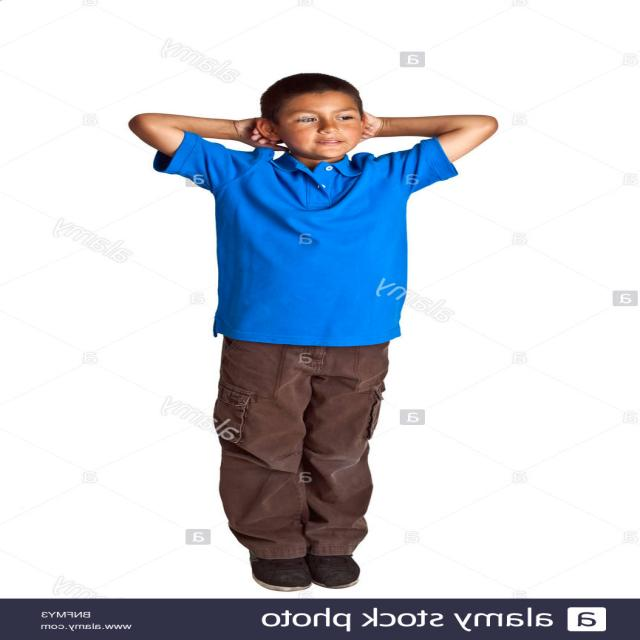child: (108, 68, 512, 598)
